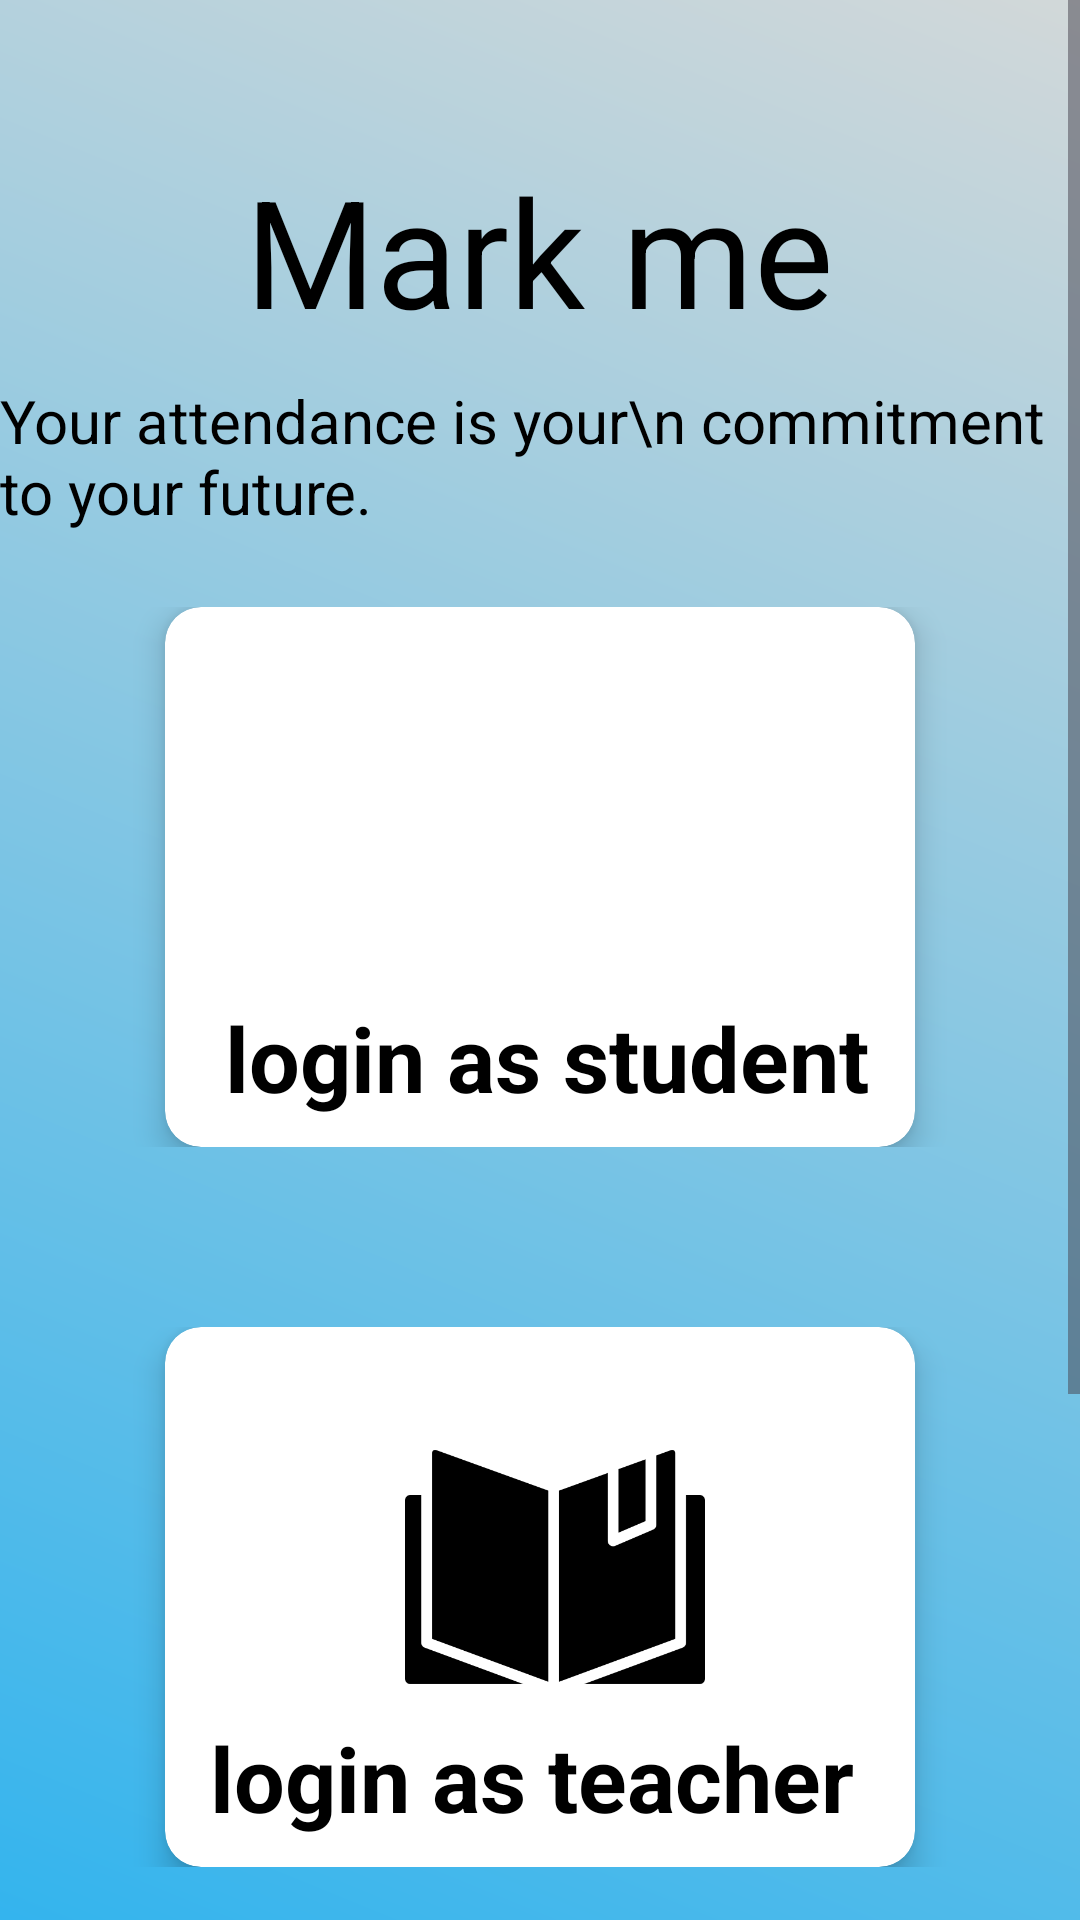

Point at icon controls on the screen. Image size 1080*1920, points as [x,y].
openbook: [555,1567]
